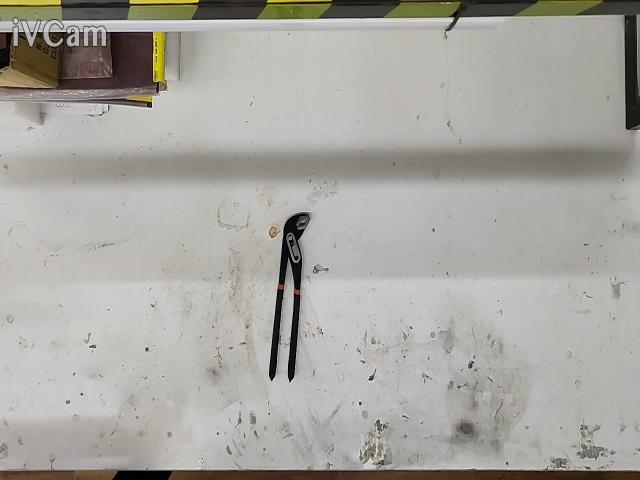Gas wrench: (269, 212, 310, 381)
